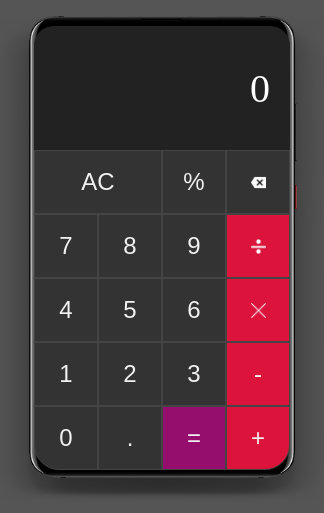
Scenario: Test calculator › Enter a number and it appears on the display
expect the text "0" is shown: met, box [34, 26, 290, 150]
Click the button "7": click(66, 246) [34, 214, 98, 278]
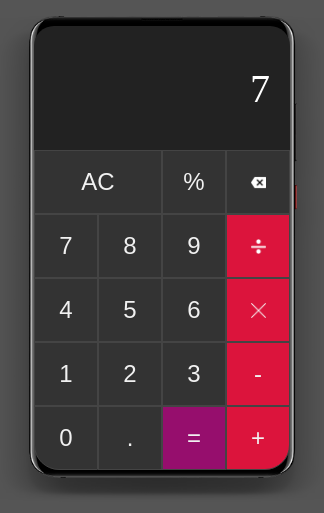
expect the text "7" is shown: met, box [34, 26, 290, 150]
